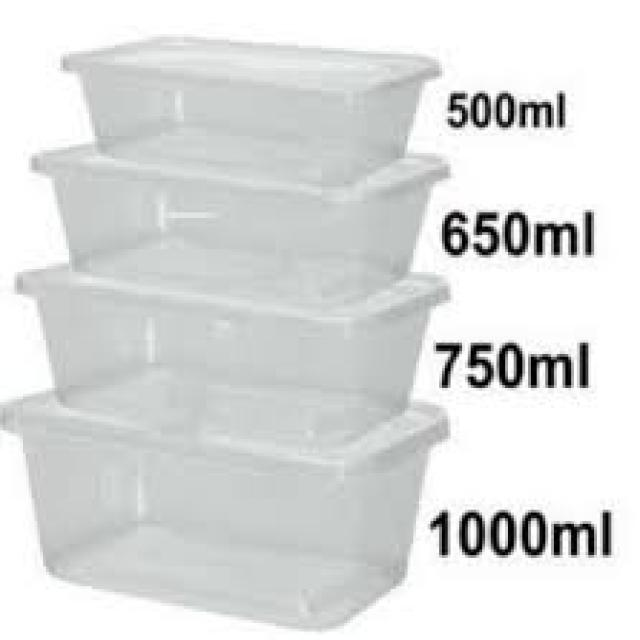disposable: (20, 373, 448, 627), (31, 118, 450, 329), (16, 255, 474, 441), (68, 28, 436, 194)
